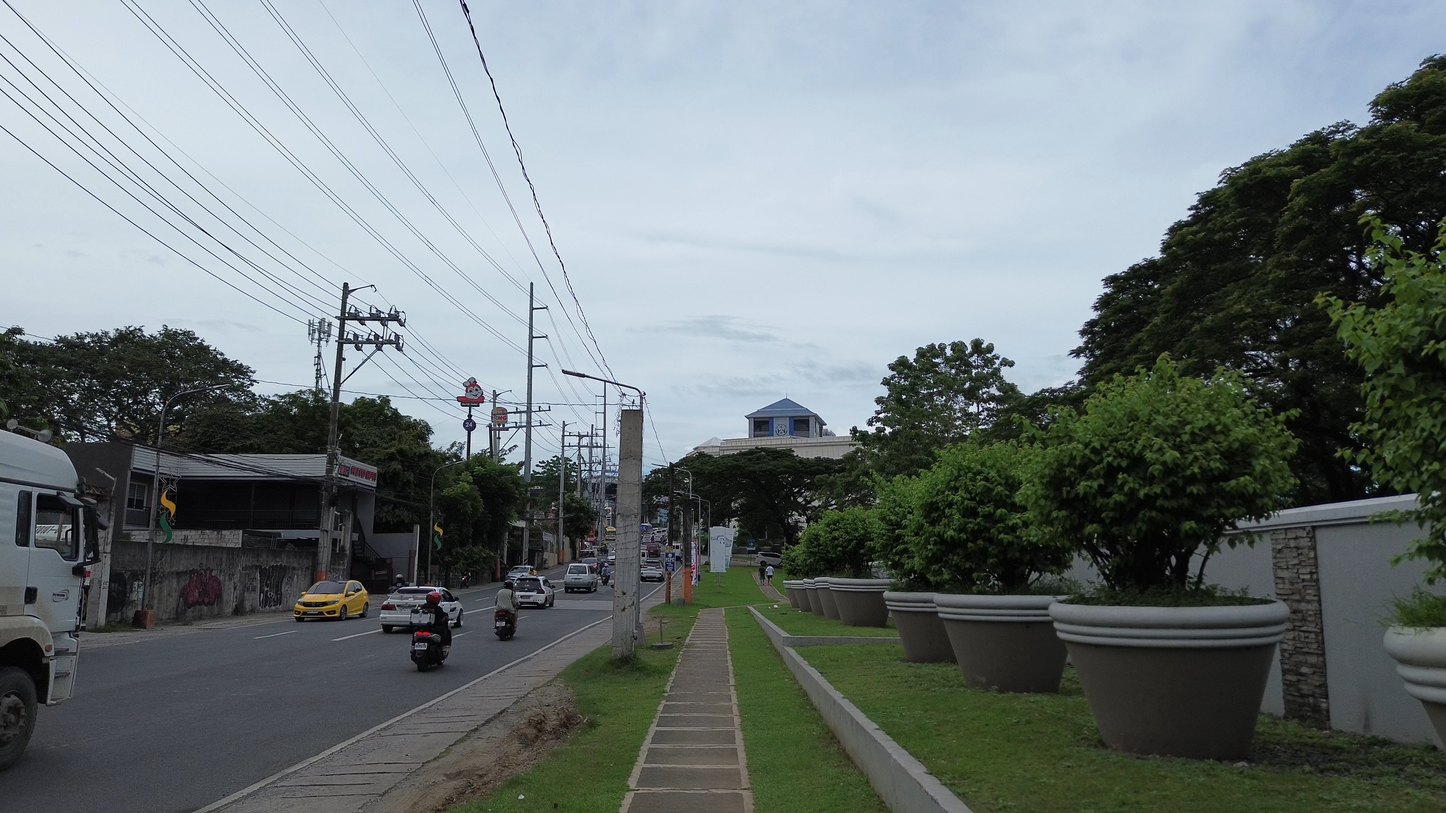car: (379, 586, 464, 633), (294, 580, 369, 621), (514, 575, 554, 607)
motorcycle: (410, 611, 450, 671)
vehicle: (0, 432, 102, 769), (410, 629, 449, 671), (564, 562, 600, 592), (494, 609, 517, 640), (641, 563, 665, 582), (758, 551, 781, 568), (506, 565, 535, 578), (644, 541, 662, 558)
